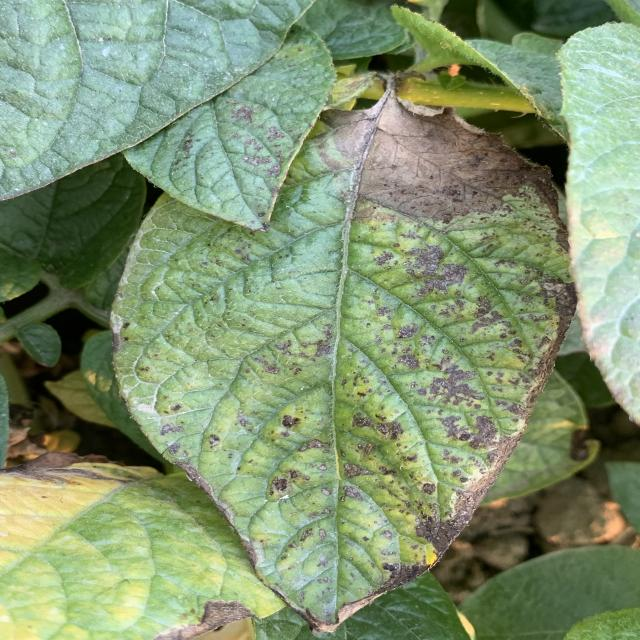lateblight: (337, 224, 572, 450), (297, 84, 525, 224), (280, 441, 478, 590), (337, 594, 382, 621)
